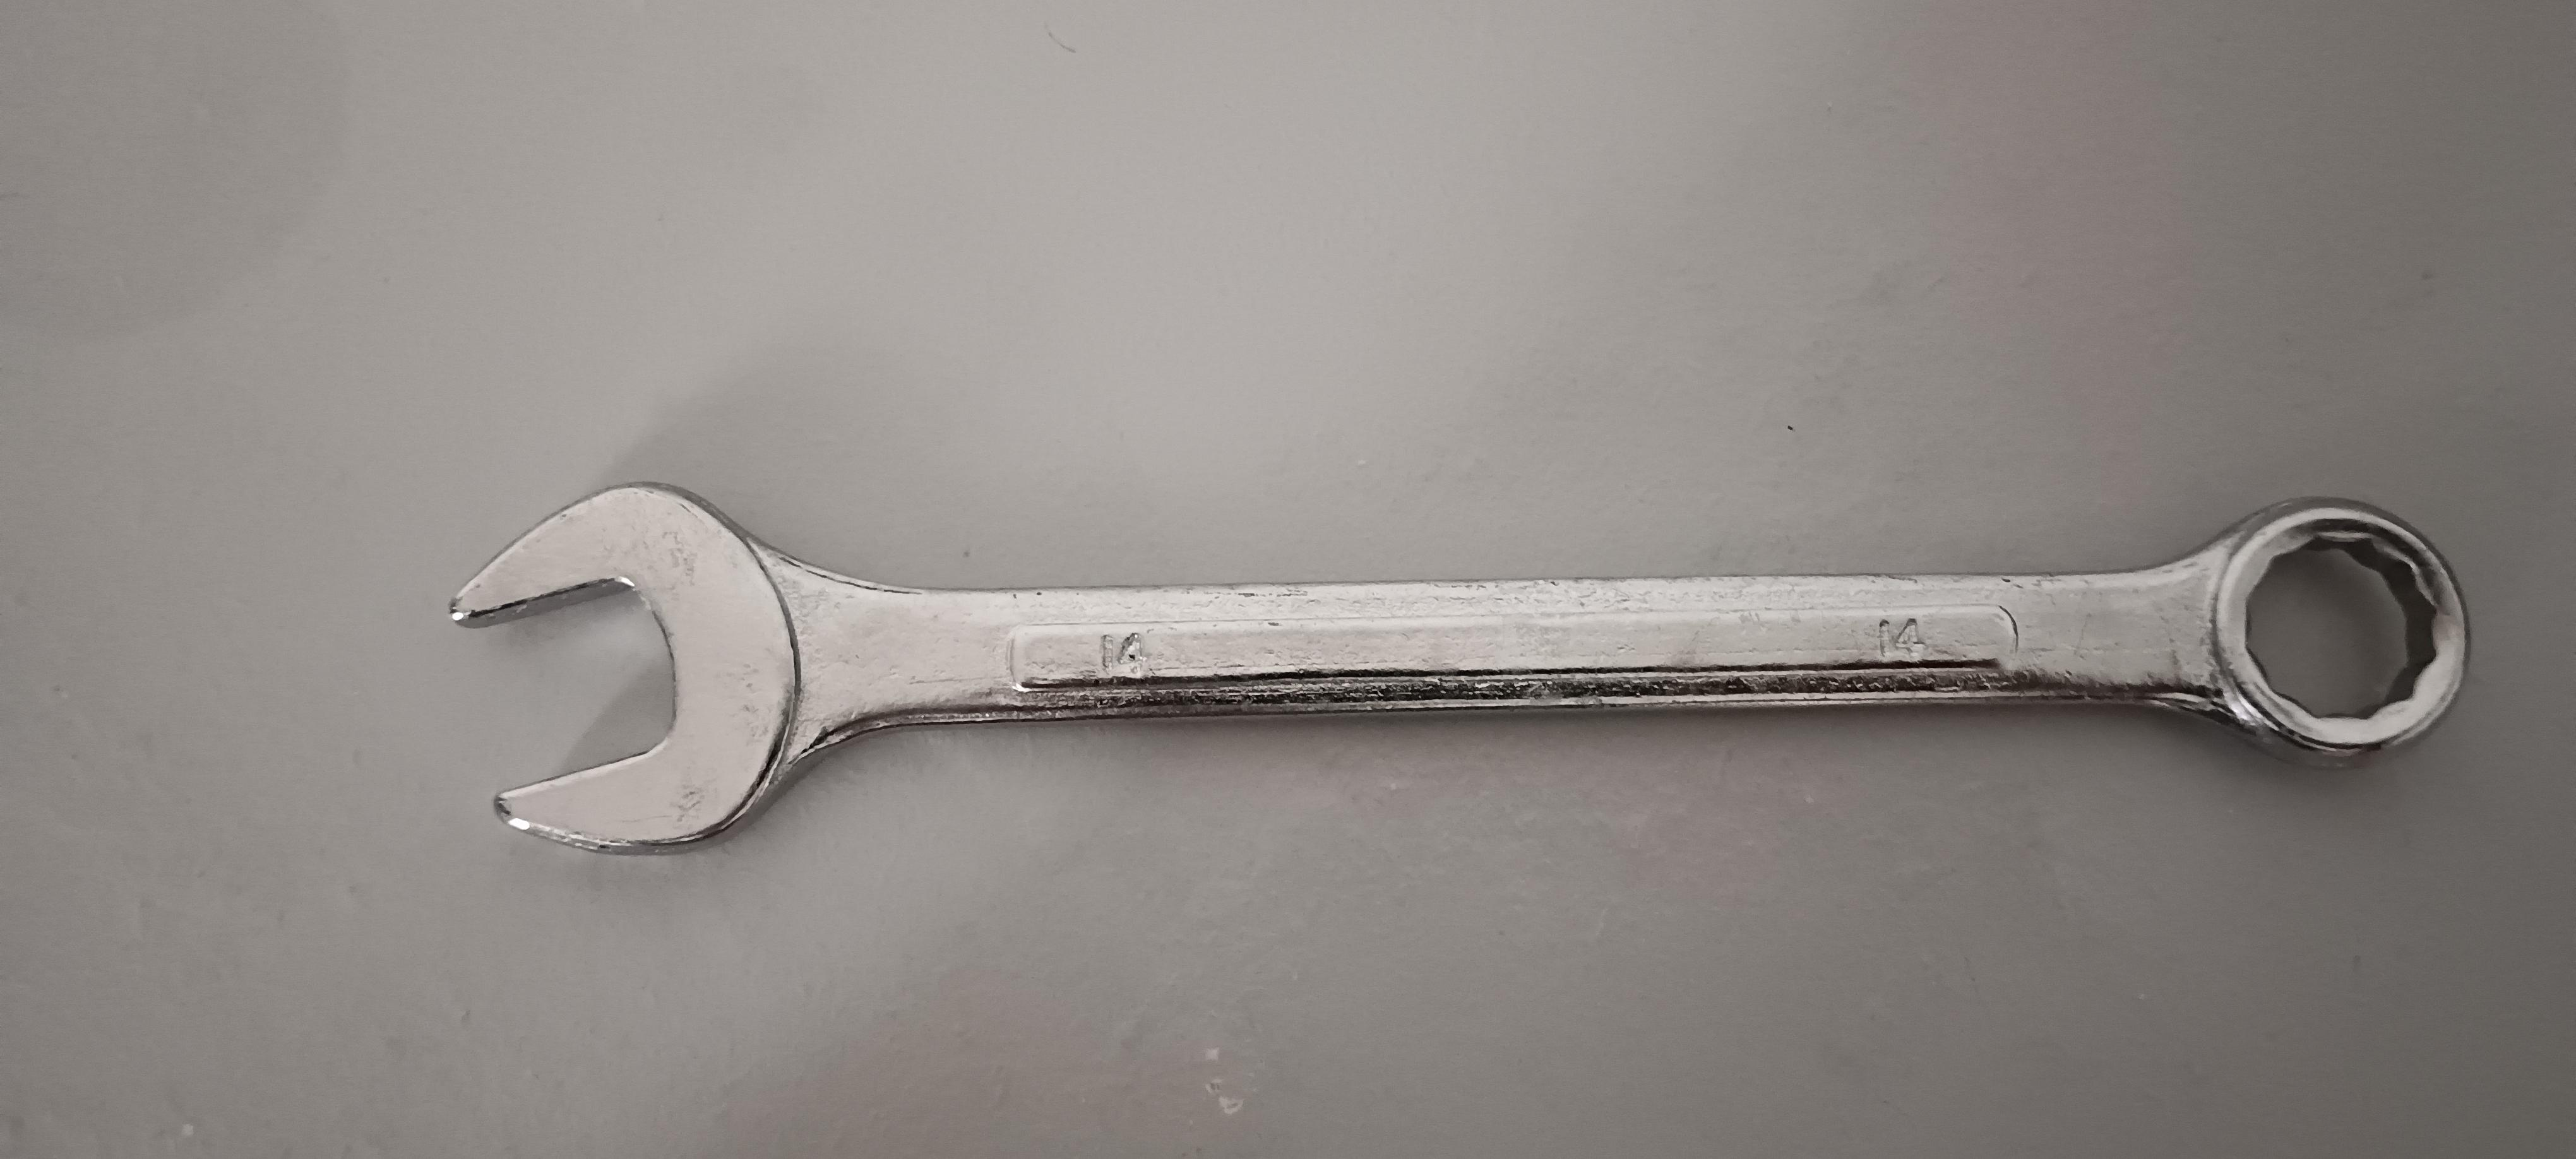Spanners: (406, 404, 2494, 877)
